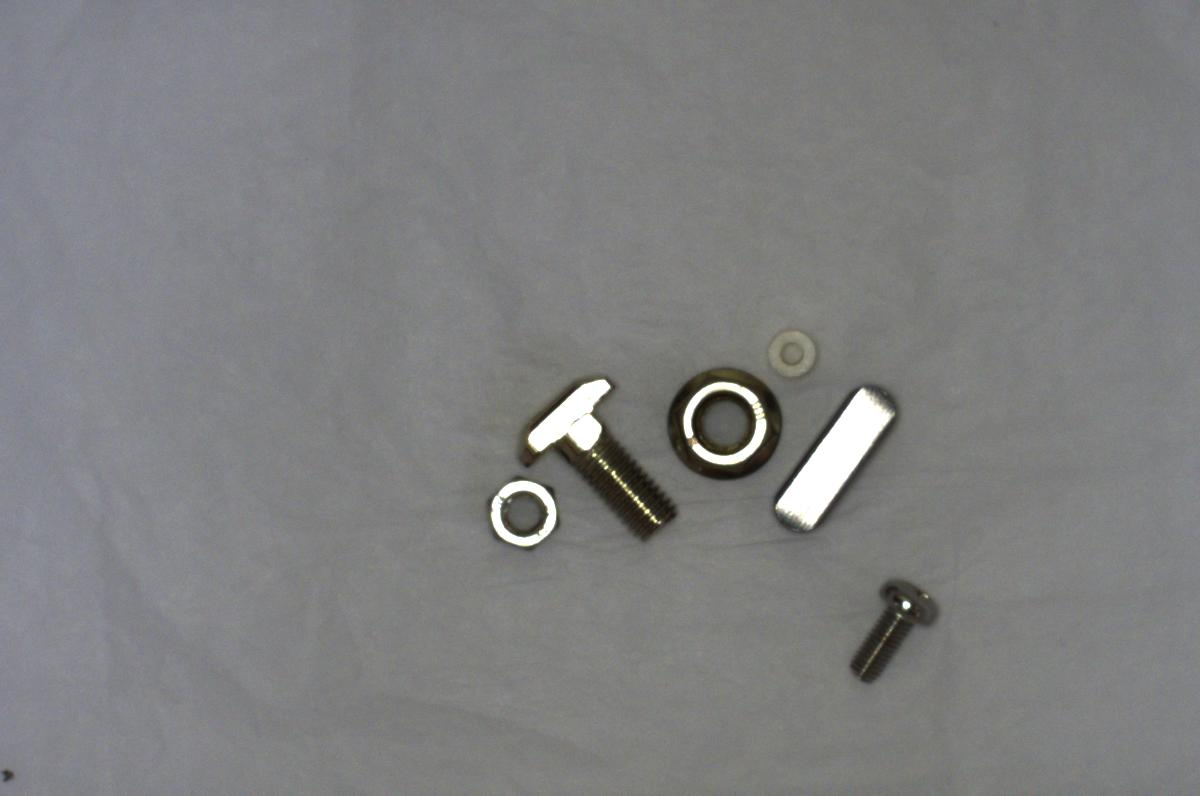Flange nut: (652, 359, 787, 486)
Hexagon nut: (473, 469, 569, 556)
Keybar: (764, 371, 906, 533)
Plastic cushion pillar: (756, 324, 821, 382)
Round head screw: (843, 572, 942, 676)
T-shaped screw: (517, 368, 676, 546)
